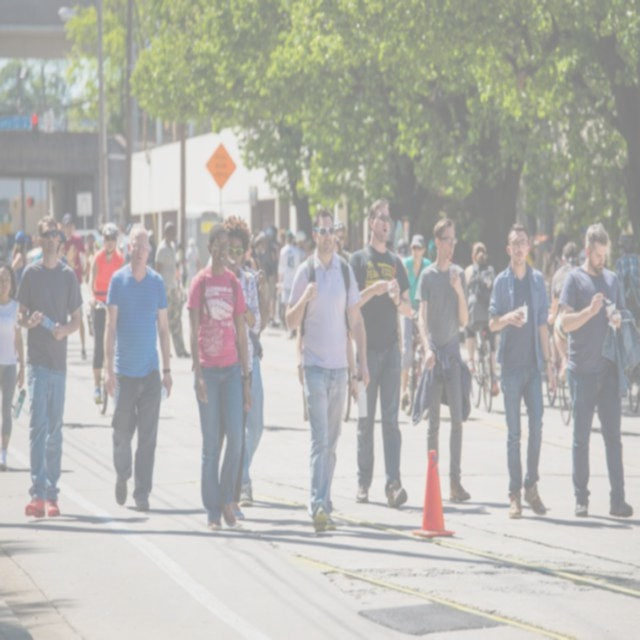pessoa: (284, 205, 369, 536), (559, 220, 635, 519), (484, 218, 558, 520), (15, 212, 85, 521), (102, 219, 174, 516), (185, 222, 252, 532), (348, 197, 413, 510), (415, 214, 476, 508), (216, 216, 262, 508), (293, 235, 358, 408), (238, 224, 268, 508), (88, 220, 126, 406), (462, 238, 504, 398), (398, 233, 433, 411), (152, 219, 194, 361), (0, 258, 27, 468), (546, 240, 582, 384), (61, 211, 92, 362), (246, 224, 317, 282), (394, 236, 414, 388), (276, 228, 303, 340), (526, 233, 586, 280), (10, 230, 30, 367), (612, 232, 640, 328), (260, 224, 282, 330), (137, 228, 160, 320), (95, 223, 132, 259), (78, 232, 100, 286), (332, 217, 356, 264), (184, 236, 202, 291), (176, 244, 187, 290), (55, 223, 67, 265), (386, 230, 398, 253), (34, 250, 44, 262)
